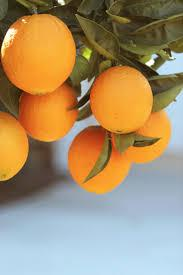orange: (1, 17, 88, 92), (5, 82, 76, 144), (0, 117, 57, 194), (90, 67, 150, 133), (66, 126, 131, 184)
